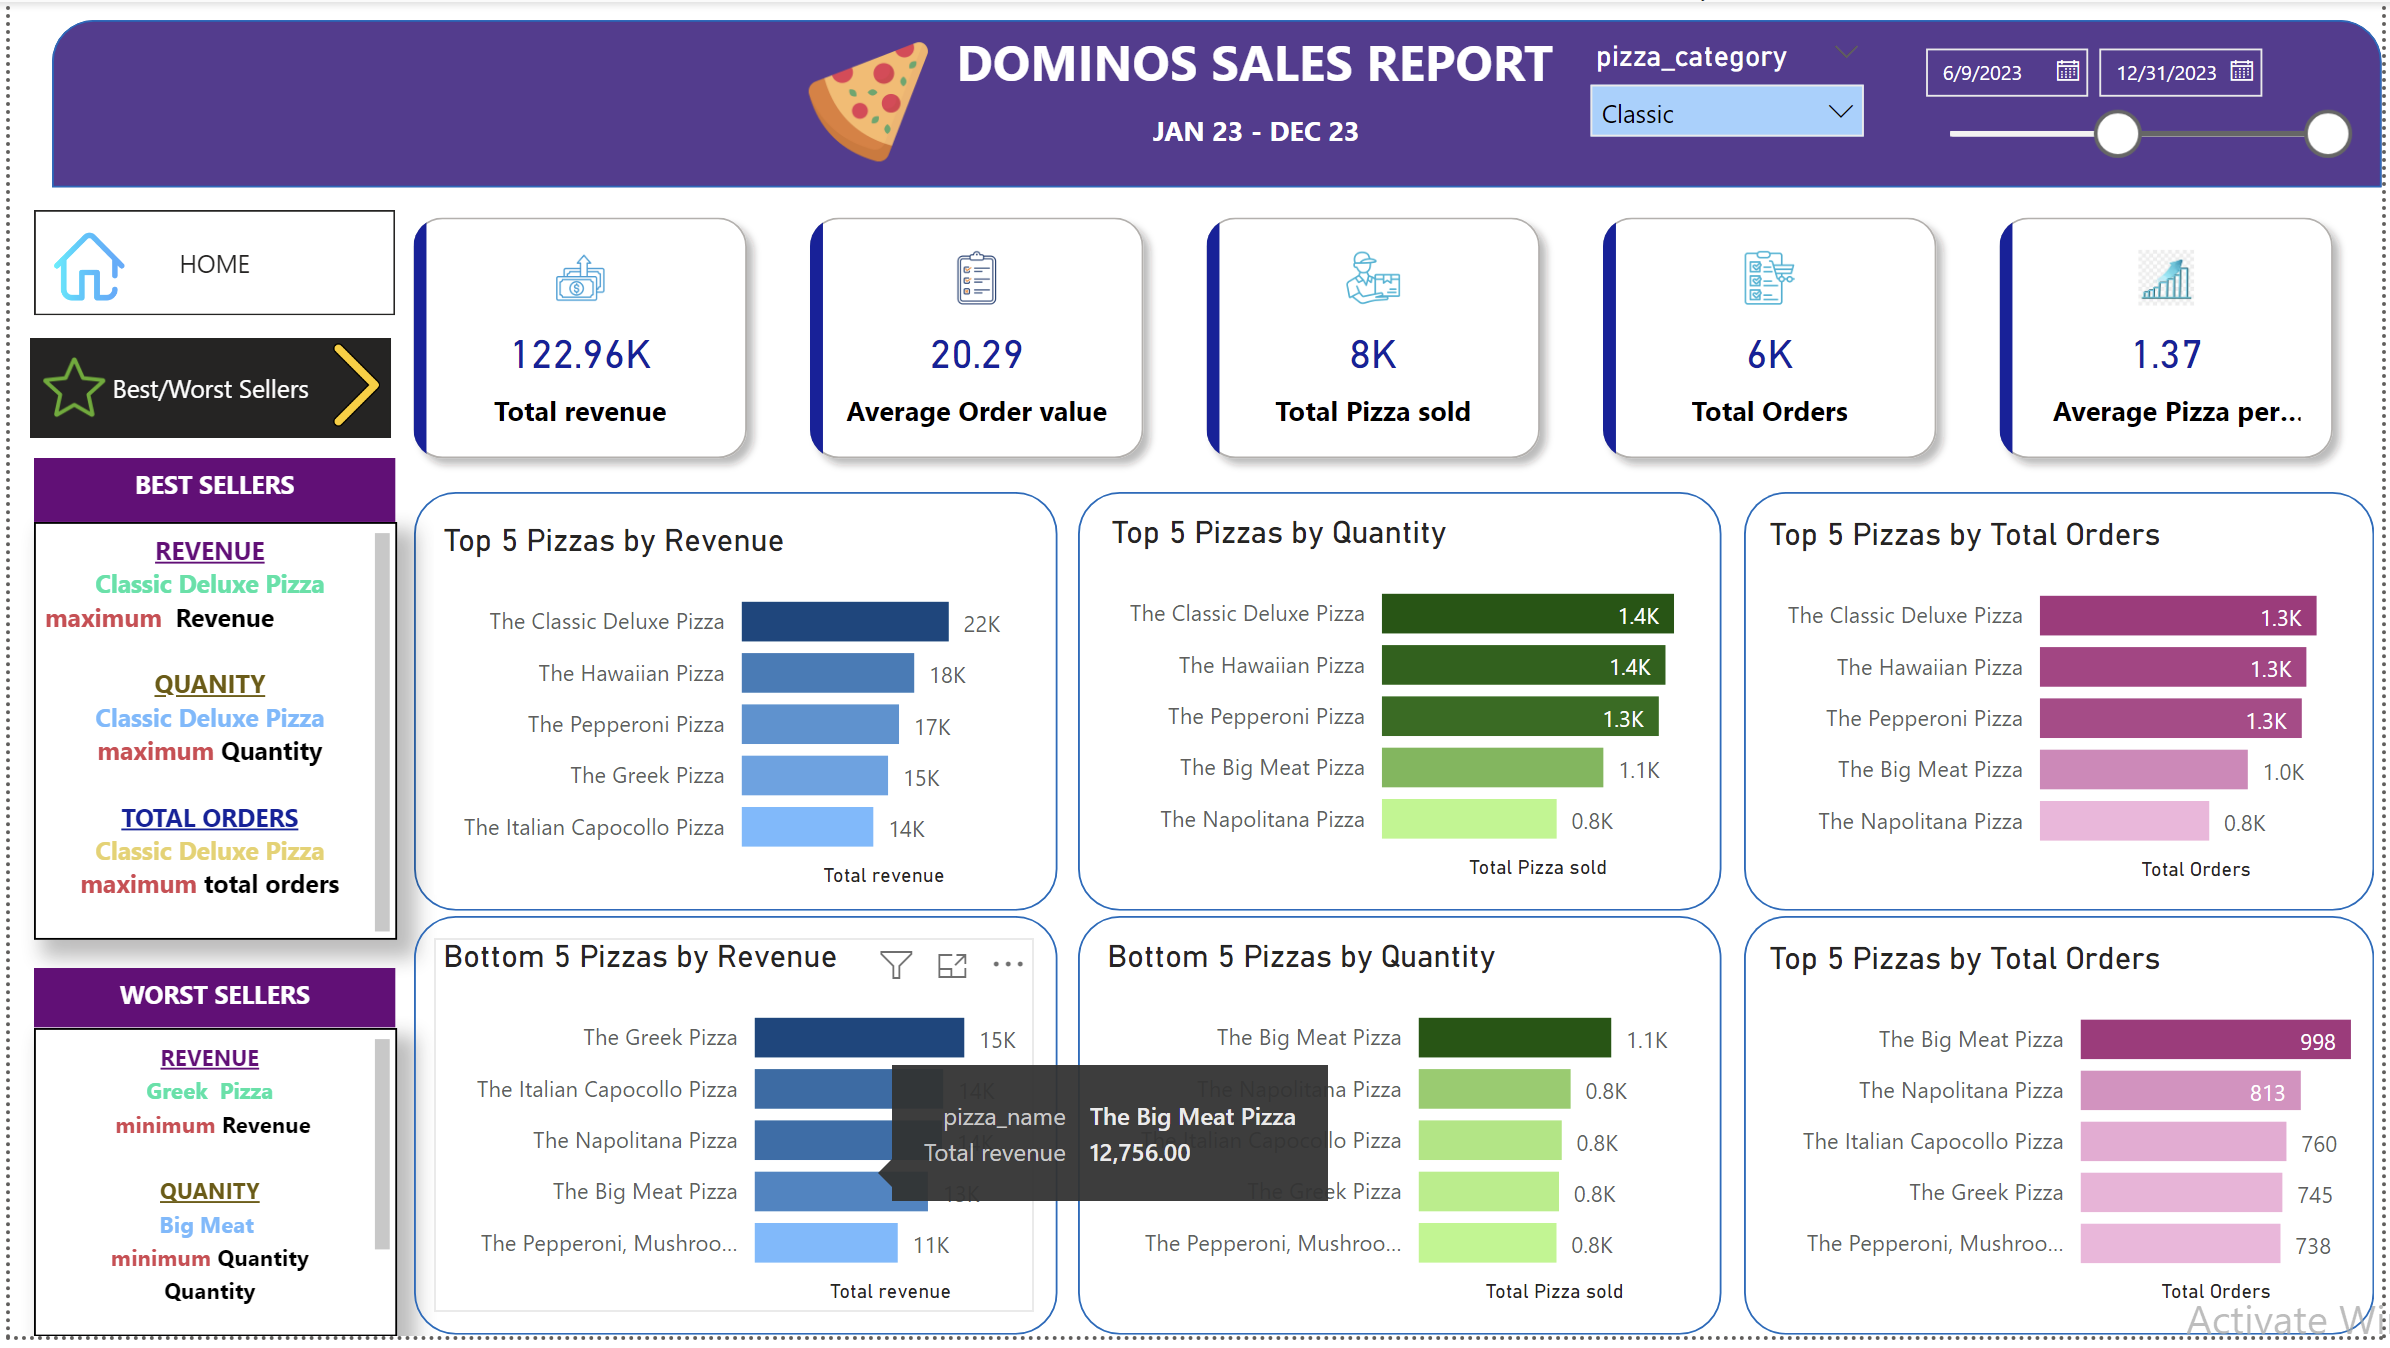

Layout of this report page (visuals, bound fields, positions):
{"tool":"powerbi","page":{"name":"Best/Worst Sellers","canvas":[1280,720],"ordinal":1},"visuals":[{"type":"cardVisual","fields":{"Data":["Key_Measures.Total revenue","Key_Measures.Average Order value","Key_Measures.Total Pizza sold","Key_Measures.Total Orders","Key_Measures.Average Pizza per Order"]},"box":[200.4,99.5,1071.6,164.2],"z":0},{"type":"shape","box":[22.6,9.5,1257.4,90.4],"z":1000},{"type":"textbox","box":[486,9,372.3,54.3],"z":2000},{"type":"textbox","box":[537.7,54.3,270.2,32.3],"z":3000},{"type":"image","box":[400.7,15.5,125.4,77.6],"z":4000},{"type":"shape","box":[217.7,264.1,347.4,226],"z":5000},{"type":"textbox","box":[12.7,280.5,195.9,225.6],"z":6000},{"type":"textbox","box":[12.7,554,195.9,166.3],"z":7000},{"type":"textbox","box":[13.1,246.2,195.1,34.5],"z":8000},{"type":"textbox","box":[13.1,521,195.1,32.1],"z":9000},{"type":"slicer","fields":{"Values":["pizza_sales.pizza_category"]},"box":[843.4,15.5,167.7,71.4],"z":10000},{"type":"slicer","fields":{"Values":["pizza_sales.order_date"]},"box":[1020.7,15.5,251,71.4],"z":11000},{"type":"shape","box":[577,264.1,347.4,226],"z":12000},{"type":"shape","box":[936.2,264.1,340.2,226],"z":13000},{"type":"shape","box":[577,493.7,347.4,226],"z":14000},{"type":"shape","box":[936.2,493.7,340.2,226],"z":15000},{"type":"shape","box":[217.7,493.7,347.4,226],"z":16000},{"type":"barChart","title":"Top 5 Pizzas by Revenue","fields":{"Category":["pizza_sales.pizza_name"],"Y":["Key_Measures.Total revenue"]},"box":[228.4,280.7,324.8,201],"z":17000},{"type":"barChart","title":"Bottom 5 Pizzas by Revenue","fields":{"Category":["pizza_sales.pizza_name"],"Y":["Key_Measures.Total revenue"]},"box":[228.4,505.6,324.8,201],"z":18000},{"type":"barChart","title":"Top 5 Pizzas by Quantity","fields":{"Category":["pizza_sales.pizza_name"],"Y":["Key_Measures.Total Pizza sold"]},"box":[588.8,276,324.8,201],"z":19000},{"type":"barChart","title":"Top 5 Pizzas by Total Orders","fields":{"Category":["pizza_sales.pizza_name"],"Y":["Key_Measures.Total Orders"]},"box":[944.5,277.2,324.8,201],"z":20000},{"type":"barChart","title":"Bottom 5 Pizzas by Quantity","fields":{"Category":["pizza_sales.pizza_name"],"Y":["Key_Measures.Total Pizza sold"]},"box":[587.7,505.6,324.8,201],"z":21000},{"type":"barChart","title":"Top 5 Pizzas by Total Orders","fields":{"Category":["pizza_sales.pizza_name"],"Y":["Key_Measures.Total Orders"]},"box":[944.5,506.1,324.2,200.2],"z":22000},{"type":"pageNavigator","box":[11.3,181.9,195.9,55],"z":22001},{"type":"pageNavigator","box":[12.7,112.8,195.9,57.8],"z":22002},{"type":"image","box":[157.9,179,59.2,55],"z":22003},{"type":"image","box":[11.3,118.4,63.4,47.9],"z":22004},{"type":"image","box":[12.7,177.6,43.7,59.2],"z":22005}]}

Visuals, with their boxes in screenshot pixels (x1, y1, x2, y2), scaled from the page's 1280x720 canvas onto the 2390x1348 screenshot:
cardVisual - Key_Measures.Total revenue x Key_Measures.Average Order value: detection(374, 186, 2375, 494)
shape: detection(42, 18, 2389, 187)
textbox: detection(907, 17, 1603, 119)
textbox: detection(1004, 102, 1509, 162)
image: detection(748, 29, 982, 174)
shape: detection(406, 494, 1055, 918)
textbox: detection(24, 525, 389, 948)
textbox: detection(24, 1037, 389, 1347)
textbox: detection(24, 461, 389, 526)
textbox: detection(24, 975, 389, 1036)
slicer - pizza_sales.pizza_category: detection(1575, 29, 1888, 163)
slicer - pizza_sales.order_date: detection(1906, 29, 2375, 163)
shape: detection(1077, 494, 1726, 918)
shape: detection(1748, 494, 2383, 918)
shape: detection(1077, 924, 1726, 1347)
shape: detection(1748, 924, 2383, 1347)
shape: detection(406, 924, 1055, 1347)
"Top 5 Pizzas by Revenue" barChart: detection(426, 526, 1033, 902)
"Bottom 5 Pizzas by Revenue" barChart: detection(426, 947, 1033, 1323)
"Top 5 Pizzas by Quantity" barChart: detection(1099, 517, 1706, 893)
"Top 5 Pizzas by Total Orders" barChart: detection(1764, 519, 2370, 895)
"Bottom 5 Pizzas by Quantity" barChart: detection(1097, 947, 1704, 1323)
"Top 5 Pizzas by Total Orders" barChart: detection(1764, 948, 2369, 1322)
pageNavigator: detection(21, 341, 387, 444)
pageNavigator: detection(24, 211, 389, 319)
image: detection(295, 335, 405, 438)
image: detection(21, 222, 139, 311)
image: detection(24, 333, 105, 443)
